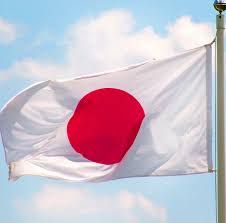Japanese Flag: (5, 39, 216, 180)
